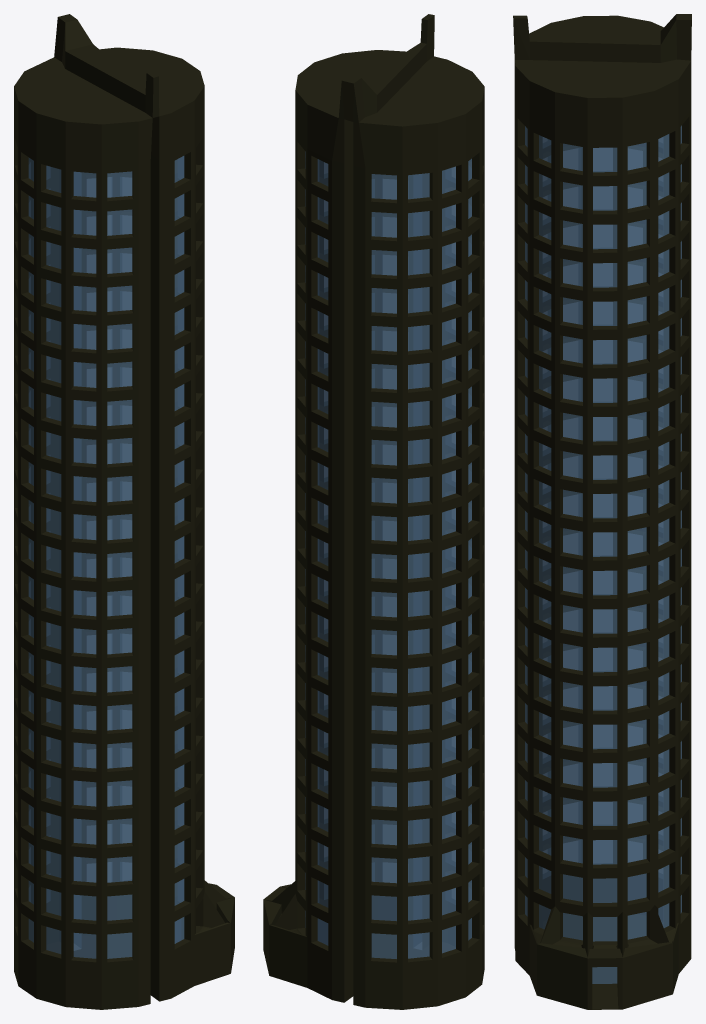
File: newapartment2_fix.fbx
3 views of the same model, side by side, from view 1: azimuth 30°, elevation 25°; view 2: azimuth 150°, elevation 25°; view 3: azimuth 270°, elevation 25° (orthographic).
Parts seen in each view (by area): view 1: NewApartment2.001; view 2: NewApartment2.001; view 3: NewApartment2.001.
Part boxes in pixels (box(x1,y1,x2,y2)): NewApartment2.001: box(14, 14, 234, 1009); NewApartment2.001: box(263, 14, 484, 1009); NewApartment2.001: box(513, 14, 691, 1009).
Bounding box in the file's own units: 3019 × 13264 × 2297.
